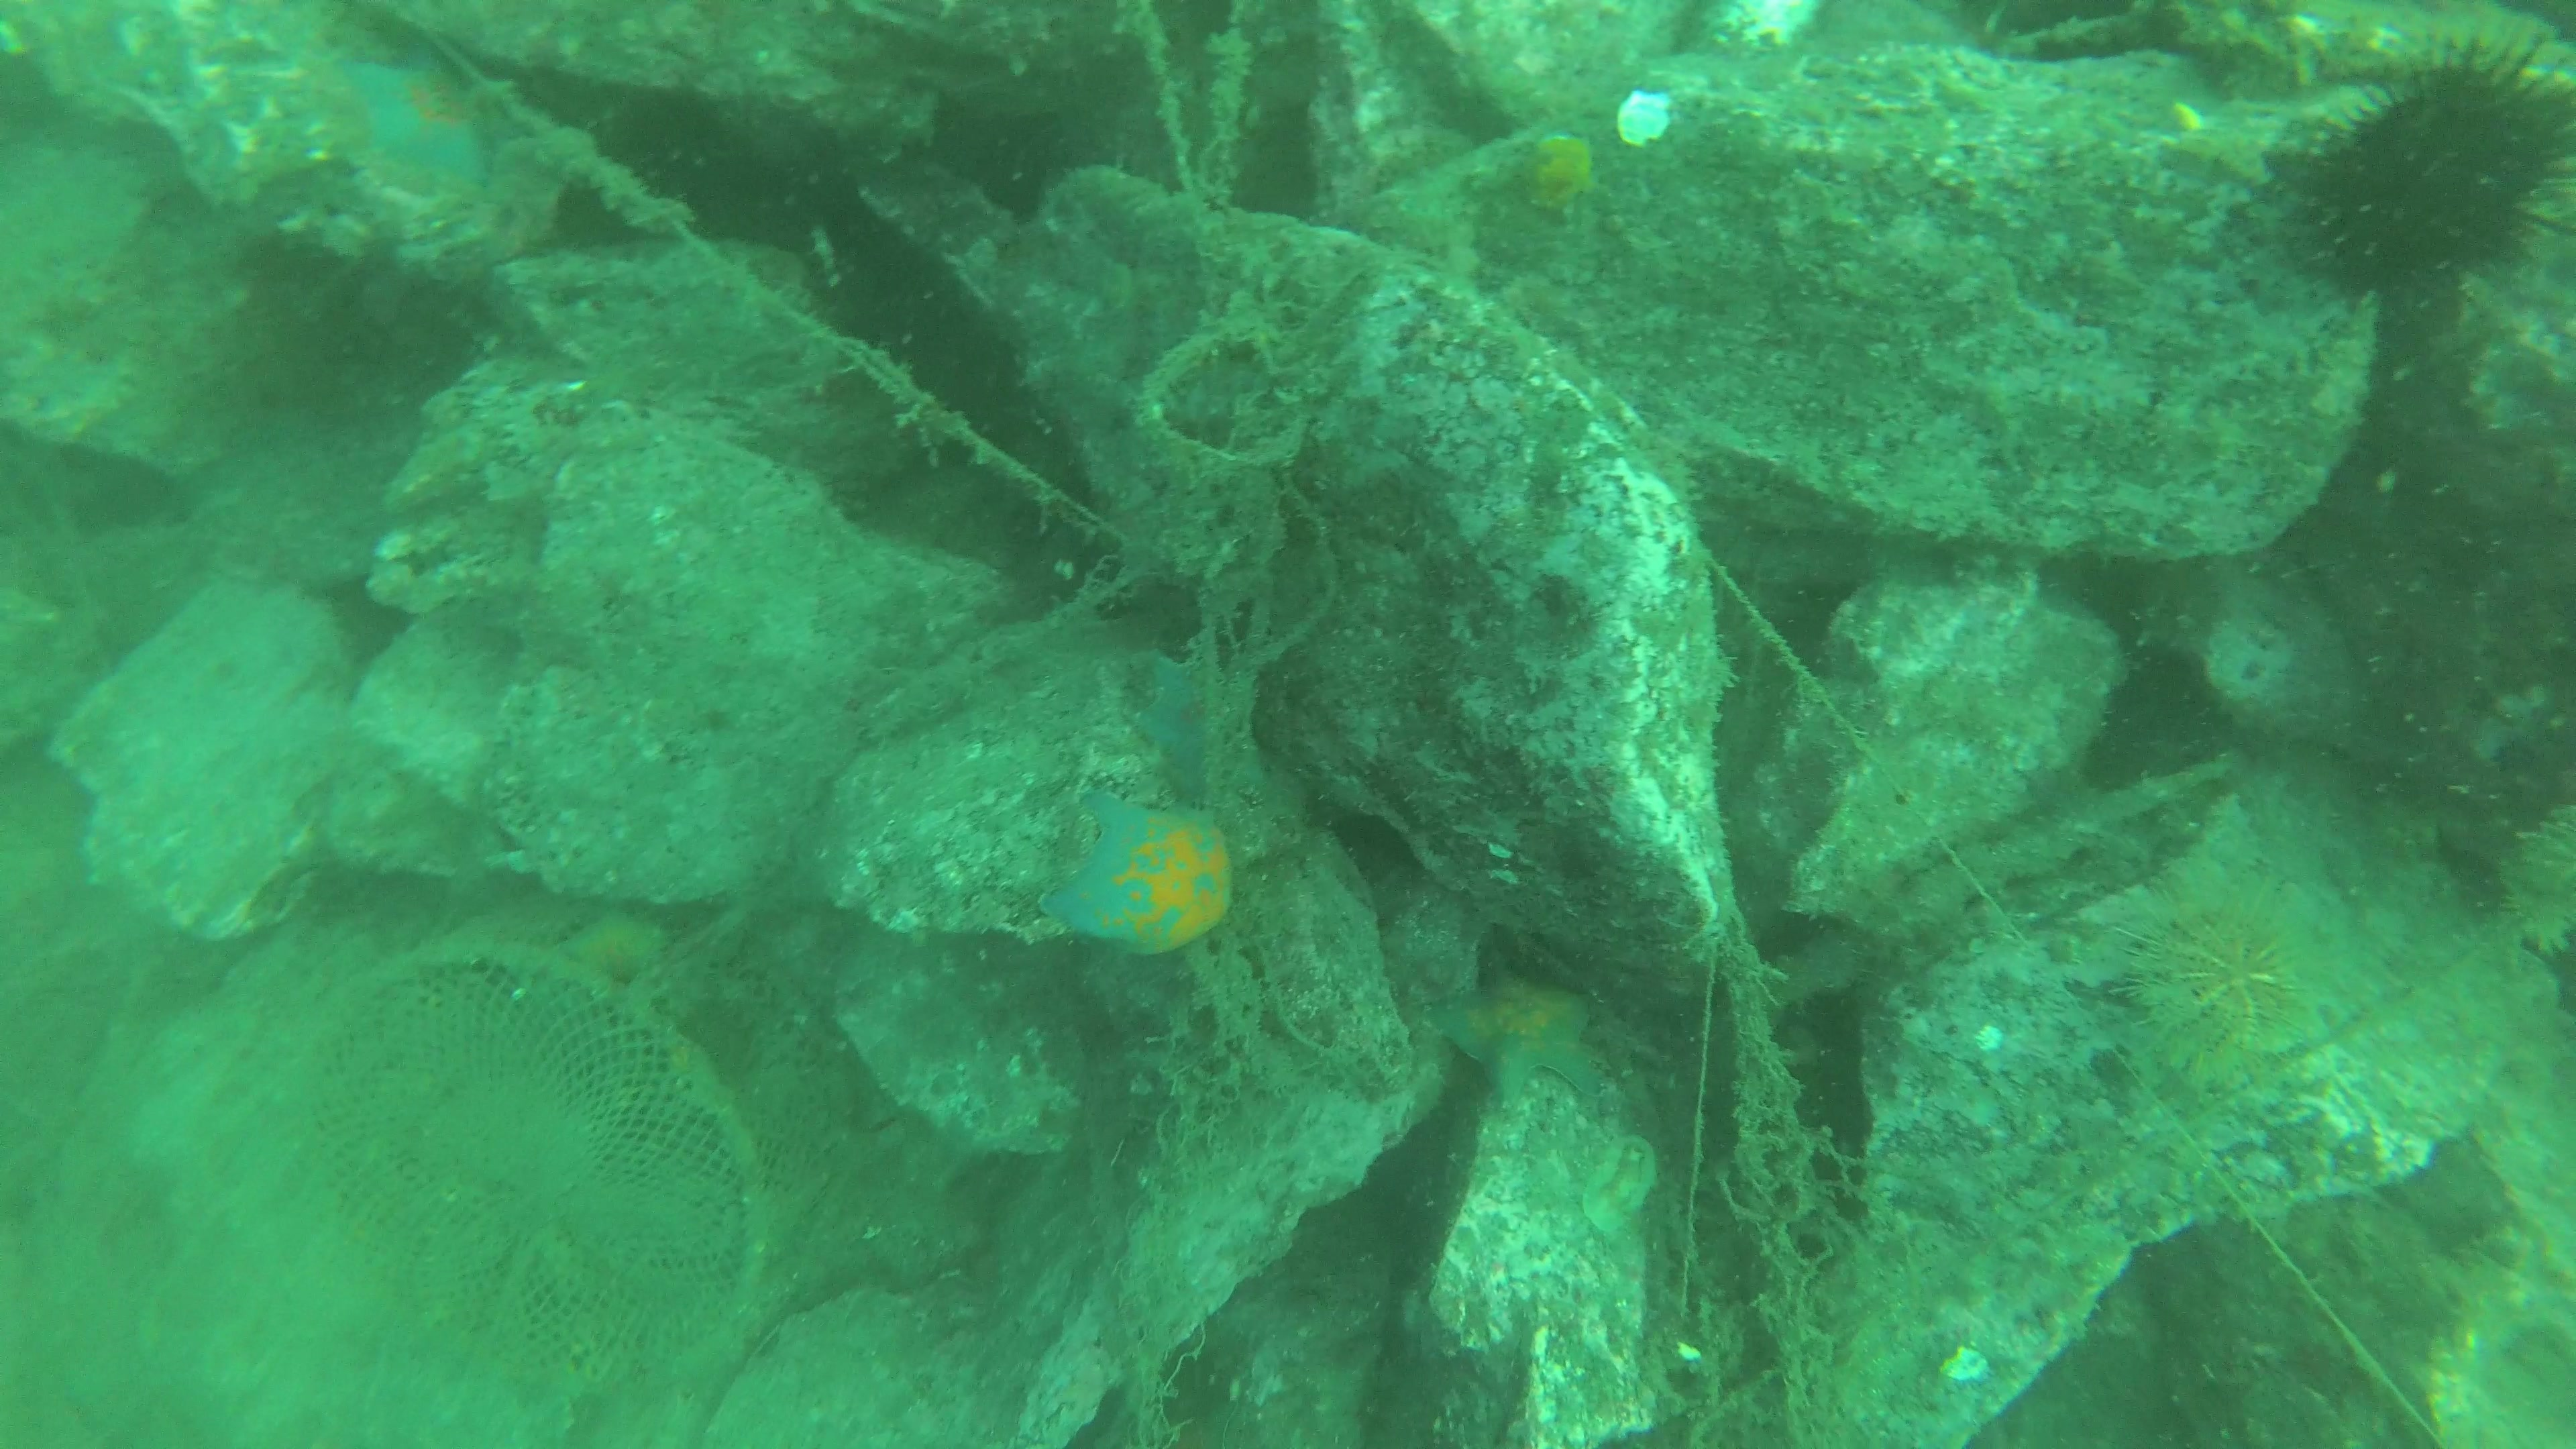echinus: (2259, 42, 2569, 336), (2116, 879, 2323, 1069)
starfish: (1030, 786, 1249, 966), (1424, 947, 1621, 1123), (322, 34, 501, 182), (1129, 642, 1246, 812), (556, 902, 672, 987)
